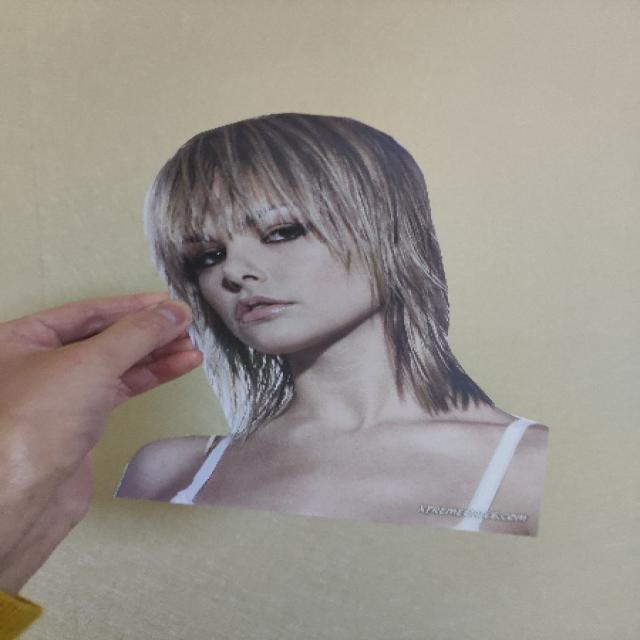photo: (104, 114, 553, 546)
